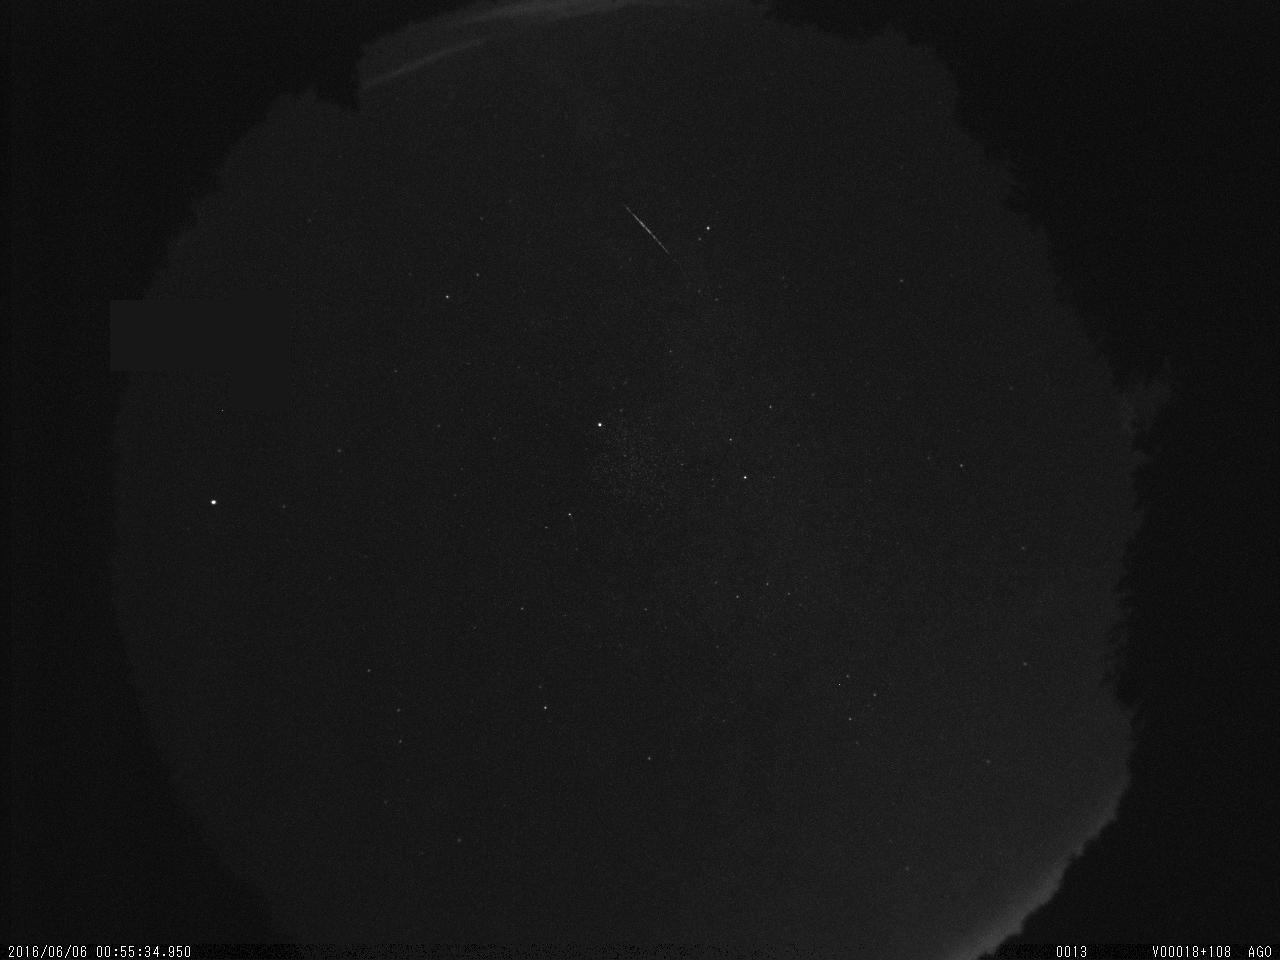meteor: (611, 194, 682, 267)
